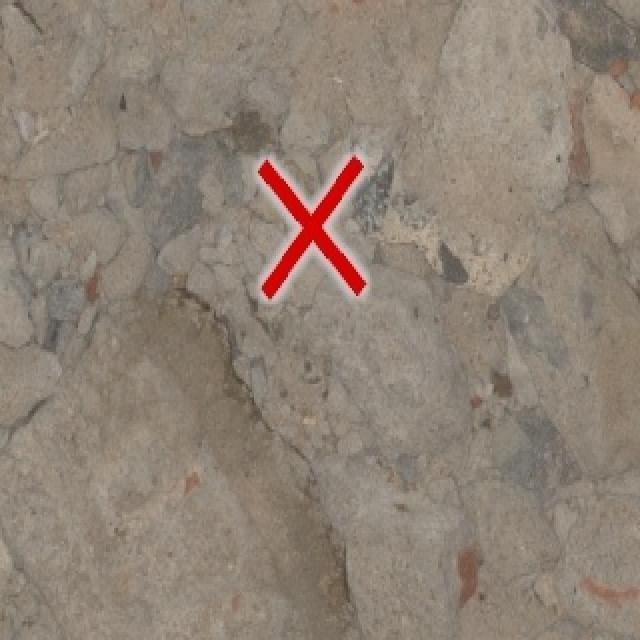x_marker: (257, 156, 365, 297)
